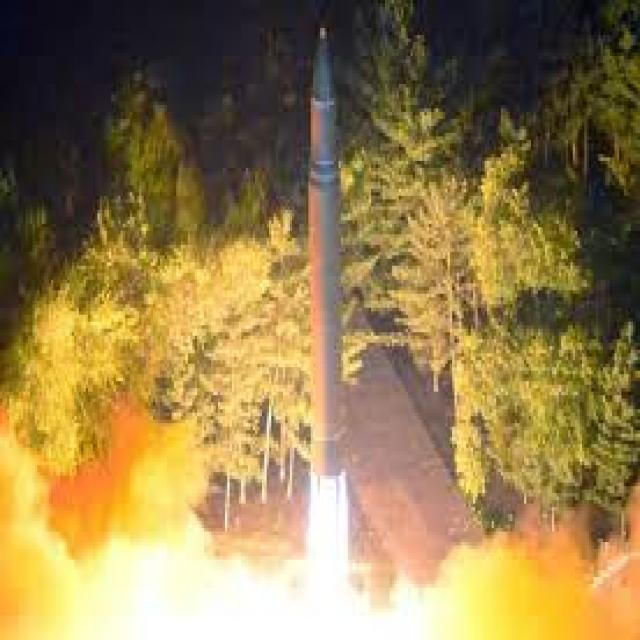missile: (301, 0, 350, 481)
